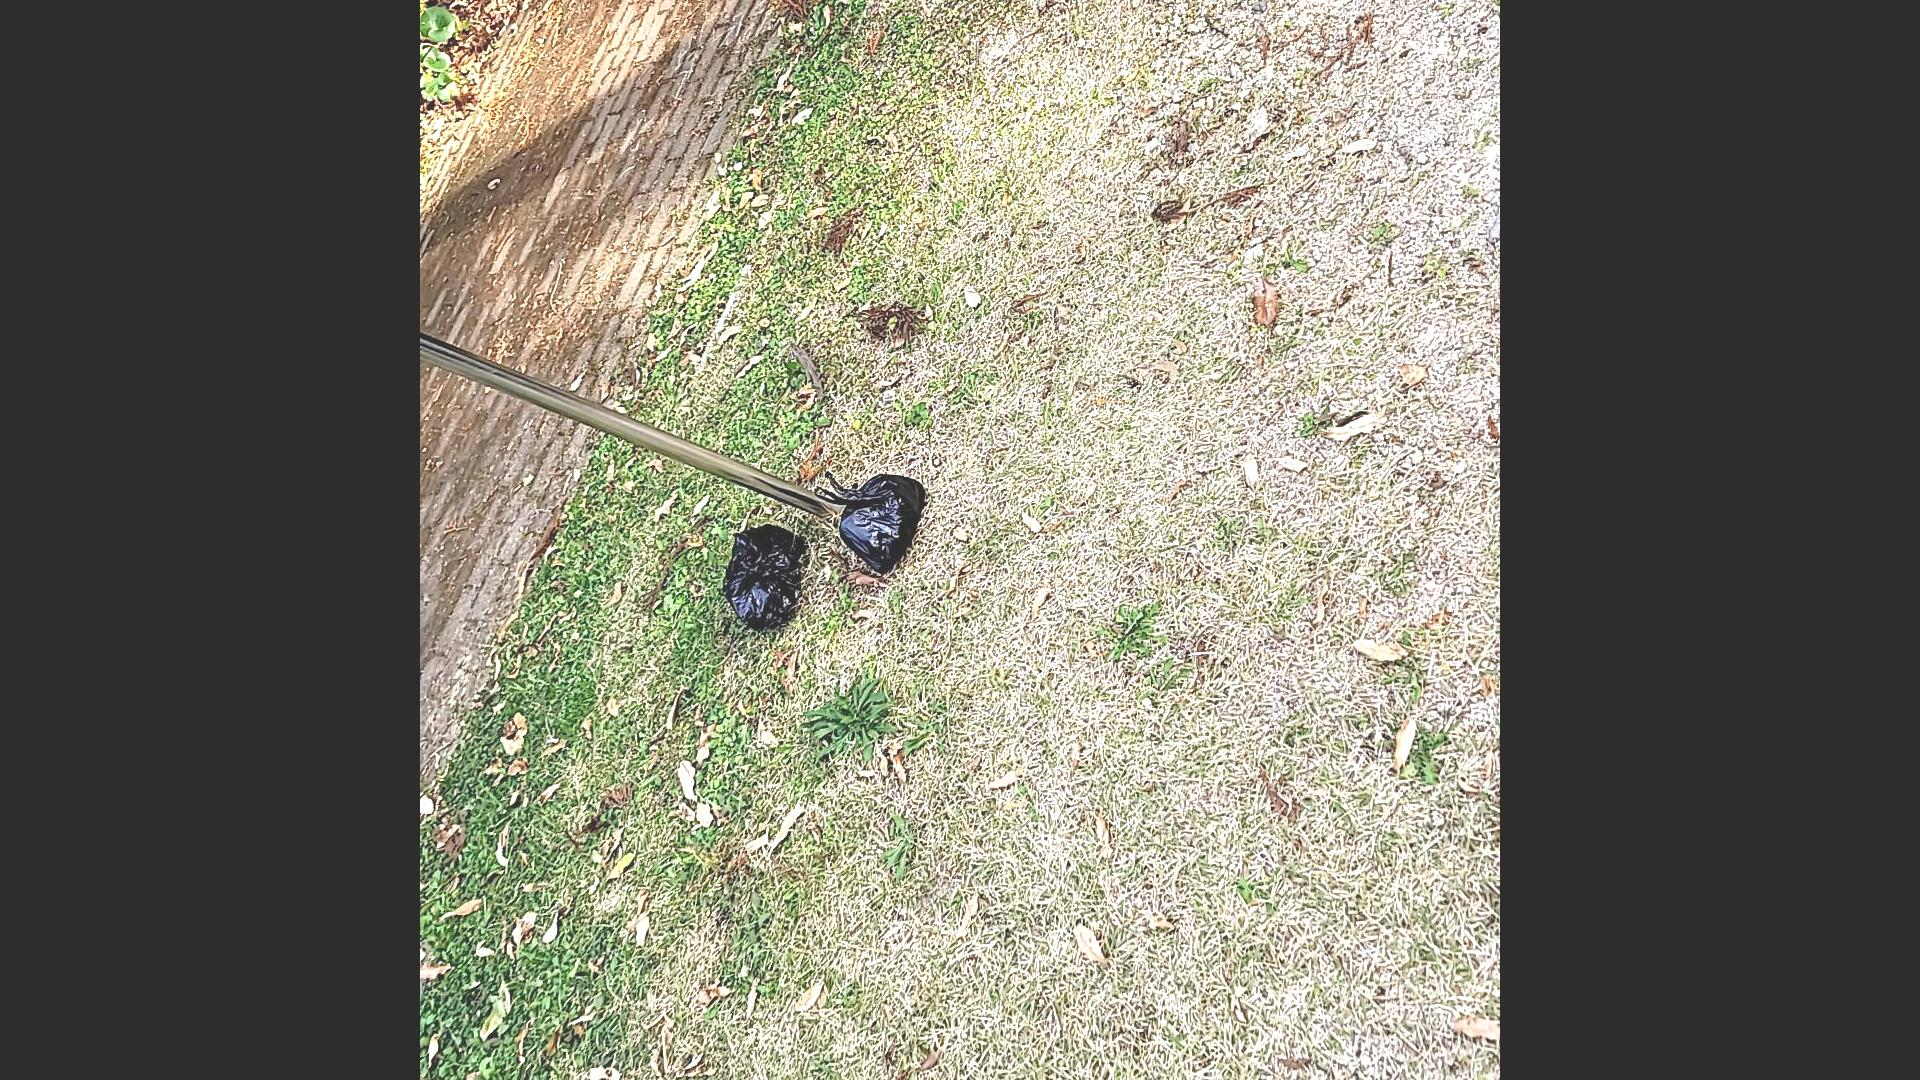black_bag: (807, 460, 931, 572), (721, 517, 808, 633)
